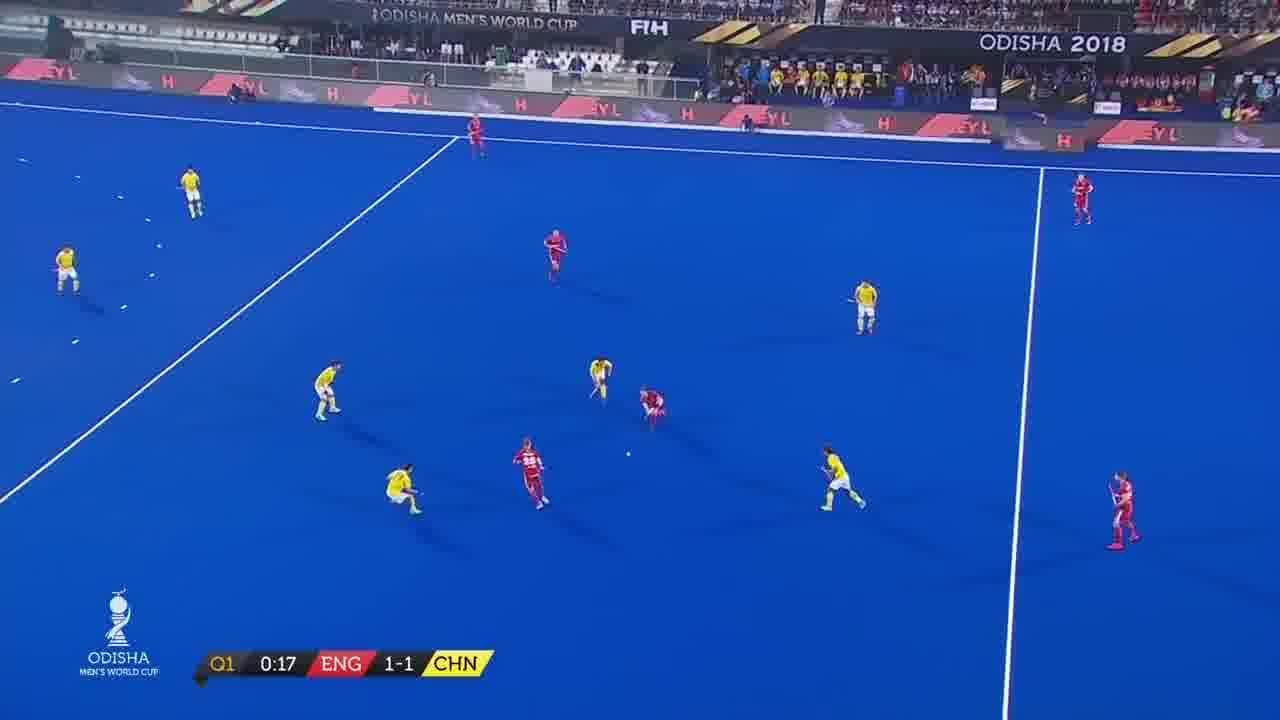ball: (623, 447, 633, 464)
